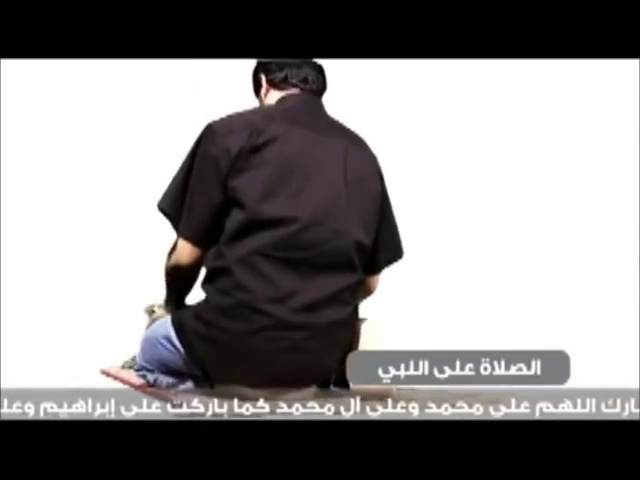sitting: (133, 59, 407, 399)
